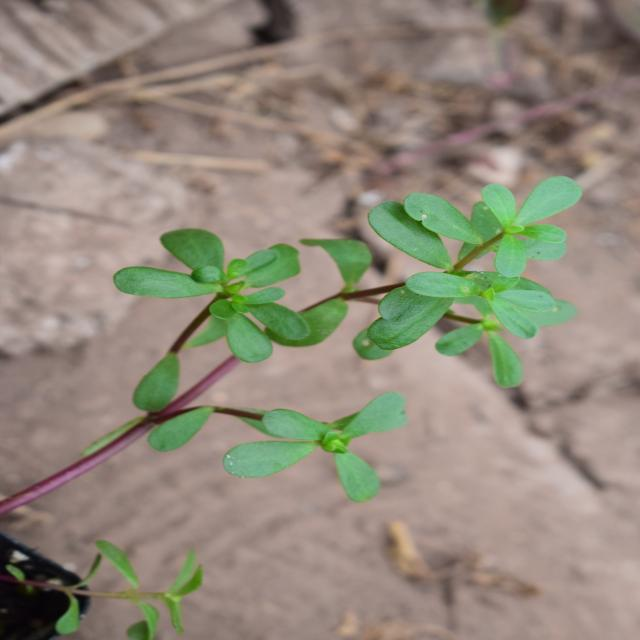purslane: (154, 57, 553, 616)
